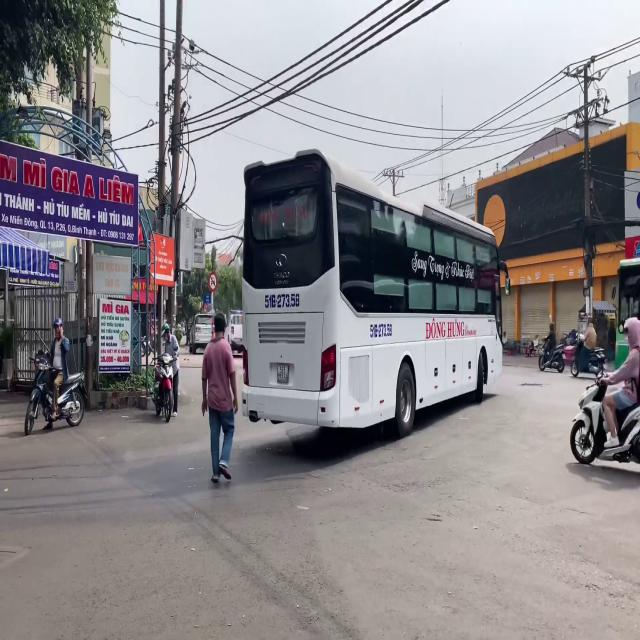bien_trang: (276, 364, 290, 385)
